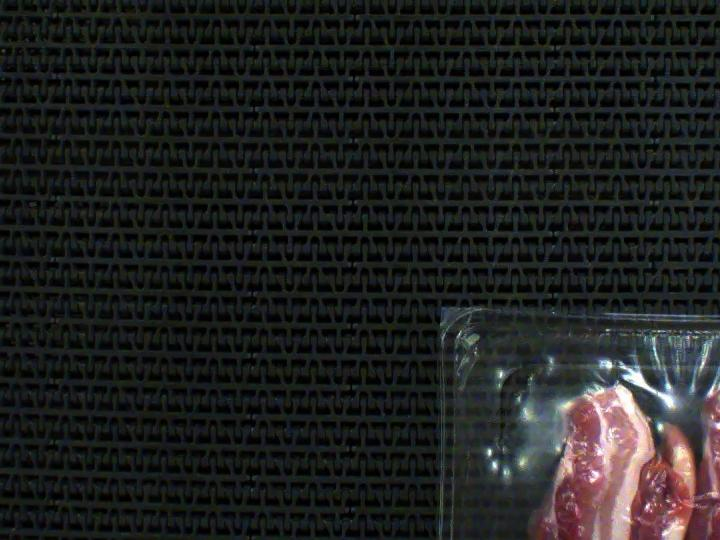unsealed: (514, 325, 720, 540)
